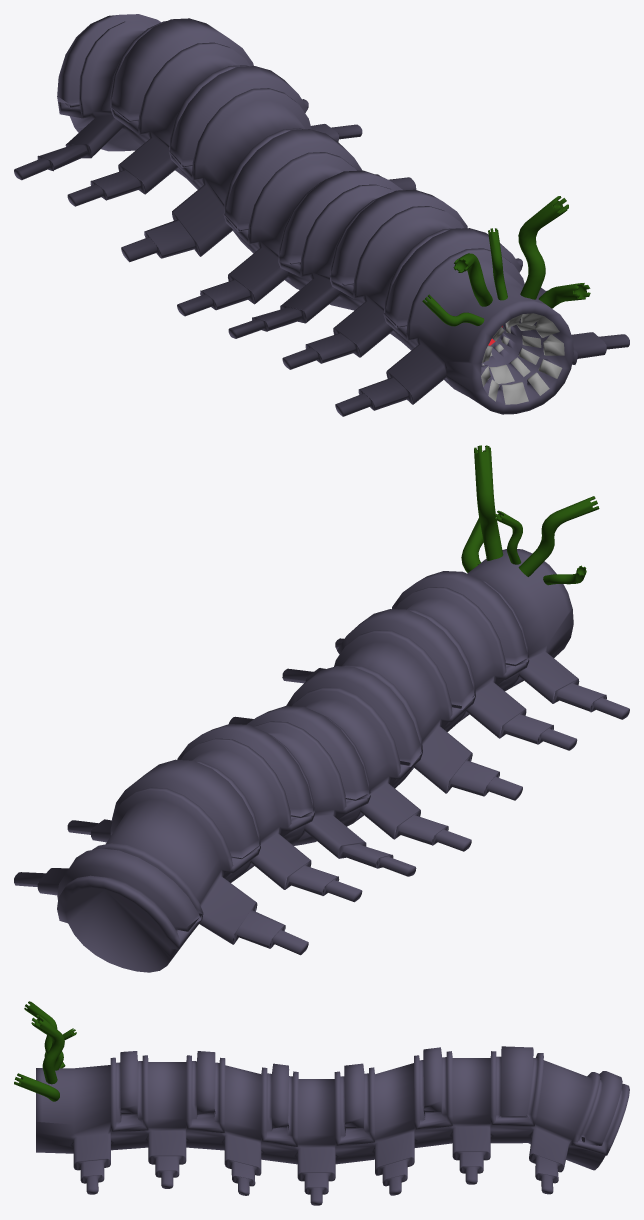
Rendered from worm.fbx.
3 views of the same model, one above another, from view 1: azimuth 30°, elevation 25°; view 2: azimuth 150°, elevation 25°; view 3: azimuth 270°, elevation 25° (orthographic). The views are drawn at different scales.
Parts seen in each view (by area): view 1: Cylinder.001, Cylinder.002; view 2: Cylinder.001, Cylinder.002; view 3: Cylinder.001, Cylinder.002.
Part boxes in pixels (x1,y1,x2,y2): Cylinder.001: [14, 14, 629, 416]; Cylinder.002: [422, 196, 590, 326]; Cylinder.001: [14, 549, 629, 972]; Cylinder.002: [461, 445, 599, 585]; Cylinder.001: [36, 1046, 629, 1205]; Cylinder.002: [14, 1001, 76, 1101].
Size of the model in its own units: 14.79 by 11.27 by 38.69.
